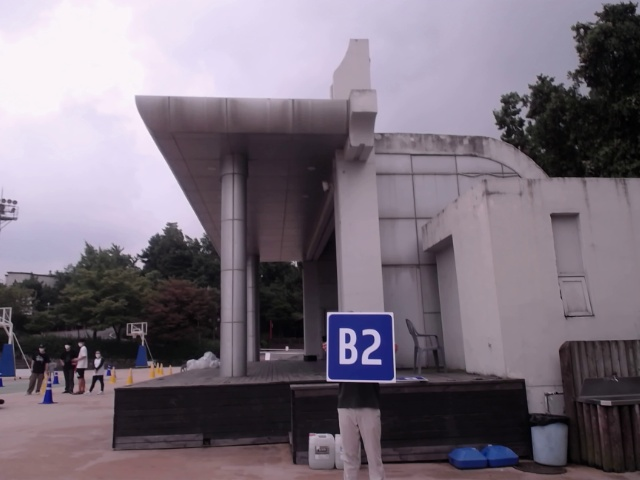delivery_b2: (327, 313, 394, 381)
